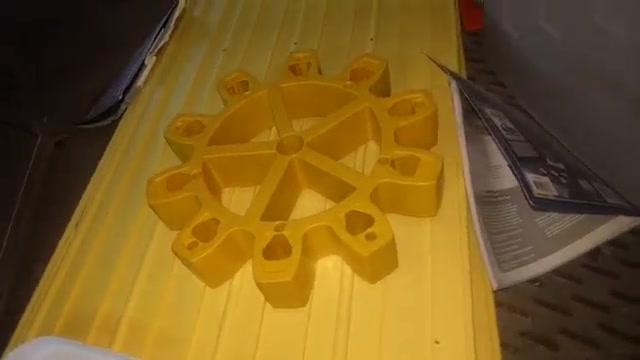gear: (140, 53, 454, 318)
